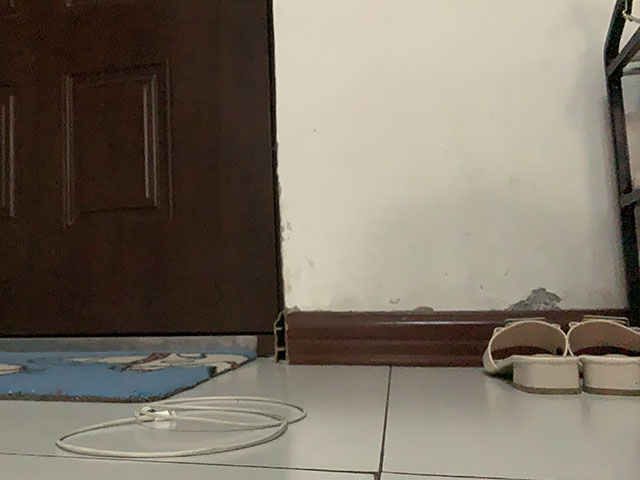carpet: (1, 347, 264, 398)
slippers: (483, 316, 579, 395), (566, 312, 640, 398)
wire: (56, 396, 308, 458)
